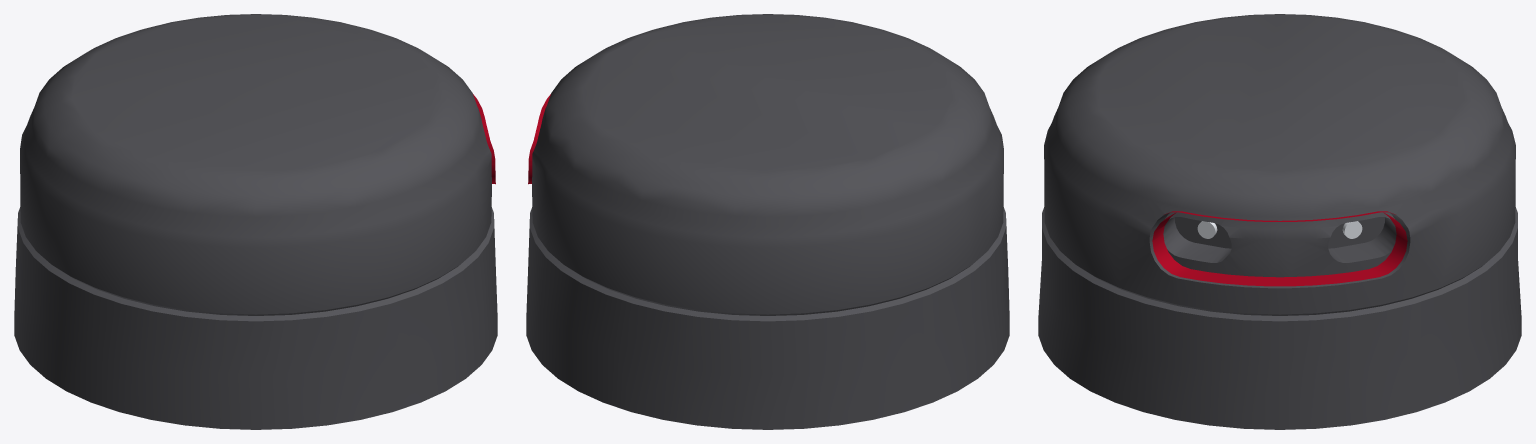
The picture shows the model from 3 angles, left to right: view 1: azimuth 30°, elevation 25°; view 2: azimuth 150°, elevation 25°; view 3: azimuth 270°, elevation 25°; orthographic projection.
Parts seen in each view (by area): view 1: n_dark; view 2: n_dark; view 3: n_dark, n_band, n_lens.
Boxes of the visible parts, <box> form: n_dark: <box>14,14,497,429</box>; n_dark: <box>526,14,1009,429</box>; n_dark: <box>1038,14,1521,429</box>; n_band: <box>1152,211,1407,286</box>; n_lens: <box>1197,221,1362,238</box>.
Bounding box in the file's own units: 0.076 × 0.0405 × 0.0758.
